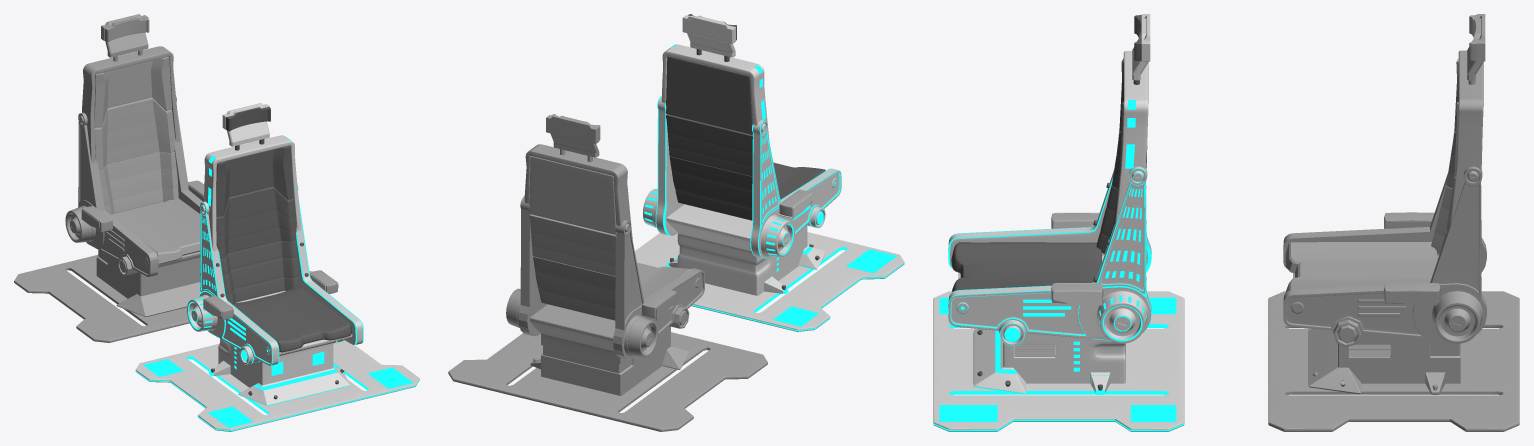
The model's file is SpaceShip Chair.fbx.
3 views of the same model, side by side, from view 1: azimuth 30°, elevation 25°; view 2: azimuth 150°, elevation 25°; view 3: azimuth 270°, elevation 25° (orthographic). The views are drawn at different scales.
Parts seen in each view (by area): view 1: HighPoly_SciFi_Chair, polySurface3, pCube1, polySurface9, pCube3, polySurface11, polySurface4, polySurface1, polySurface21, polySurface24, pCube11; view 2: HighPoly_SciFi_Chair, pCube1, polySurface3, polySurface9, polySurface11, polySurface4, pCube3, polySurface23, polySurface21, pCube11, polySurface1; view 3: HighPoly_SciFi_Chair, pCube1, polySurface9, pCube3, polySurface11, polySurface4, polySurface1, polySurface3, pCube11, pCube6.
Boxes of the visible parts, x1,y1,x2,y2 form: HighPoly_SciFi_Chair: (135, 103, 419, 431); polySurface3: (94, 56, 178, 214); pCube1: (14, 255, 189, 342); polySurface9: (65, 95, 202, 276); pCube3: (111, 197, 200, 264); polySurface11: (96, 202, 200, 298); polySurface4: (82, 46, 179, 162); polySurface1: (116, 282, 199, 316); polySurface21: (105, 32, 148, 57); polySurface24: (104, 18, 149, 42); pCube11: (82, 180, 204, 231); HighPoly_SciFi_Chair: (635, 14, 904, 331); pCube1: (448, 332, 767, 431); polySurface3: (529, 156, 616, 320); polySurface9: (506, 196, 704, 359); polySurface11: (530, 304, 670, 395); polySurface4: (524, 144, 632, 238); pCube3: (637, 262, 690, 298); polySurface23: (546, 115, 599, 144); polySurface21: (550, 133, 599, 157); pCube11: (642, 288, 676, 317); polySurface1: (662, 346, 689, 369); HighPoly_SciFi_Chair: (933, 14, 1184, 431); pCube1: (1268, 291, 1519, 431); polySurface9: (1283, 166, 1486, 346); pCube3: (1285, 242, 1436, 292); polySurface11: (1293, 255, 1460, 383); polySurface4: (1450, 50, 1483, 226); polySurface1: (1308, 329, 1360, 394); polySurface3: (1431, 58, 1483, 253); pCube11: (1384, 212, 1440, 303); pCube6: (1388, 212, 1437, 305).
Bounding box in the file's own units: 8.03 × 9.19 × 14.44.
